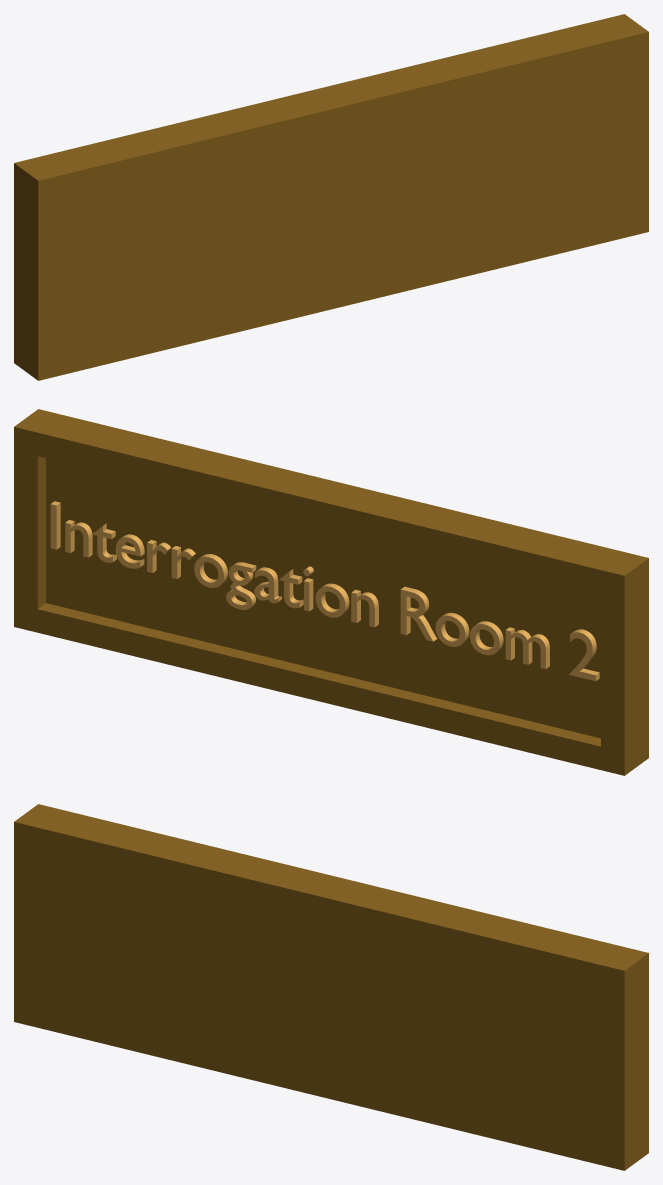
File: IR_Sign.fbx
3 renders of one model, top to bottom at view 1: azimuth 30°, elevation 25°; view 2: azimuth 150°, elevation 25°; view 3: azimuth 330°, elevation 25°, orthographic.
Parts seen in each view (by area): view 1: interrogation_room_Sign; view 2: interrogation_room_Sign; view 3: interrogation_room_Sign.
Part boxes in pixels (bbox=[...]): interrogation_room_Sign: bbox=[14, 14, 648, 380]; interrogation_room_Sign: bbox=[14, 409, 648, 775]; interrogation_room_Sign: bbox=[14, 804, 648, 1170].
Size of the model in its own units: 984 by 308 by 68.12.
